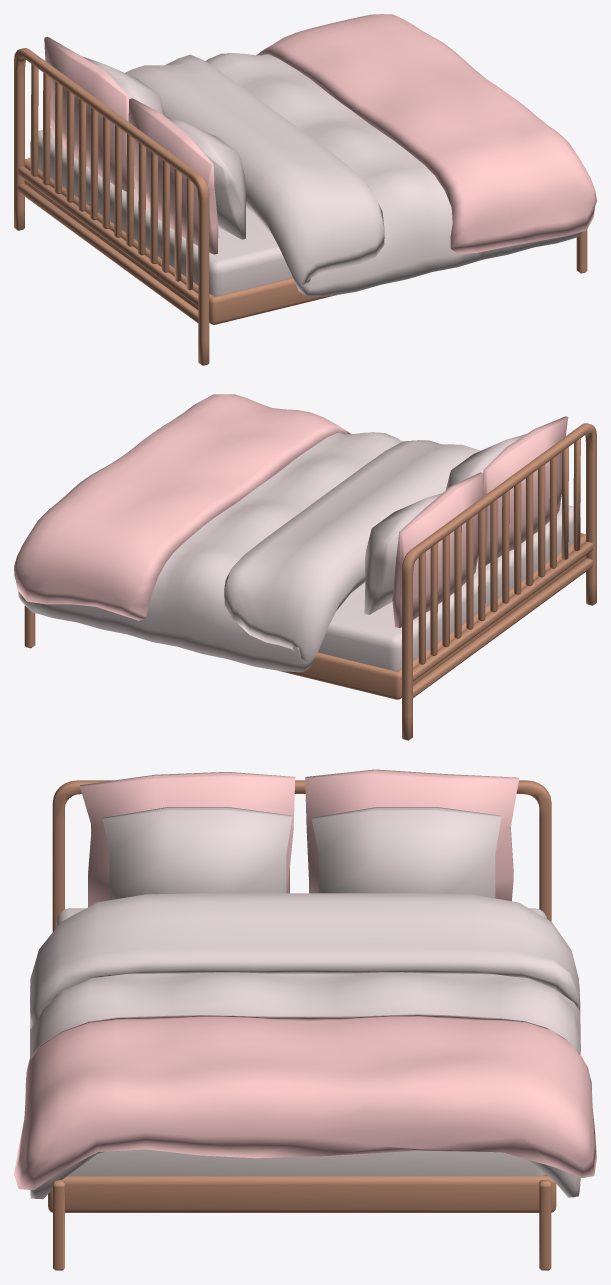
File: Bed_1_size_04.fbx
3 renders of one model, top to bottom at view 1: azimuth 30°, elevation 25°; view 2: azimuth 150°, elevation 25°; view 3: azimuth 270°, elevation 25°, orthographic. The views are drawn at different scales.
Parts seen in each view (by area): view 1: Bed_1_size_04; view 2: Bed_1_size_04; view 3: Bed_1_size_04.
Part boxes in pixels (x1=…): Bed_1_size_04: x1=14, y1=14, x2=596, y2=365; Bed_1_size_04: x1=14, y1=394, x2=596, y2=740; Bed_1_size_04: x1=14, y1=769, x2=596, y2=1270.
Size of the model in its own units: 210 by 103 by 206.
